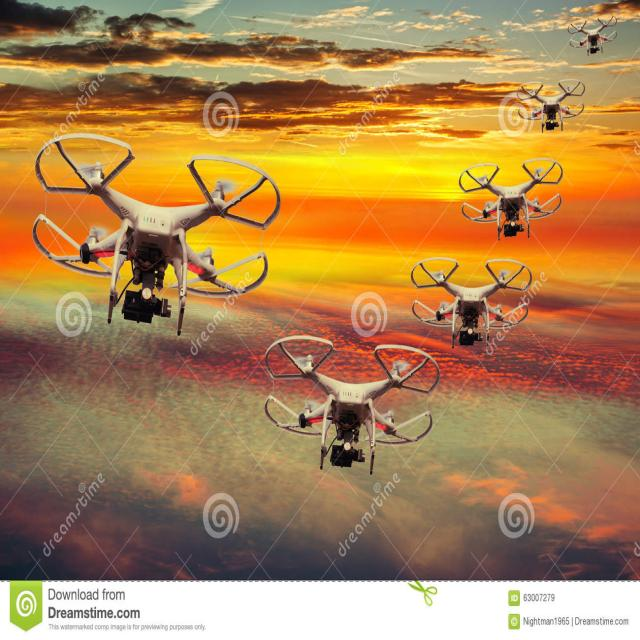drone: (24, 131, 283, 340), (262, 332, 444, 473), (408, 253, 535, 356), (458, 156, 566, 242), (516, 79, 586, 134), (566, 13, 618, 58)
